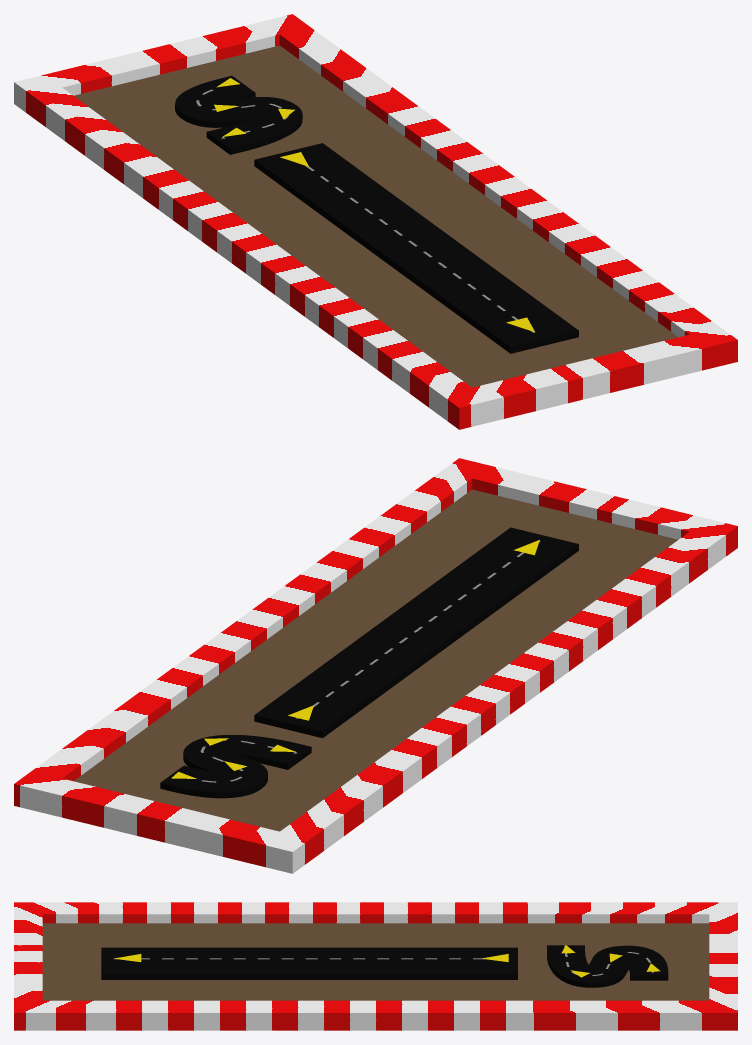
The model's file is alef_hamza_hi.FBX.
3 views of the same model, one above another, from view 1: azimuth 30°, elevation 25°; view 2: azimuth 150°, elevation 25°; view 3: azimuth 270°, elevation 25° (orthographic). The views are drawn at different scales.
Parts seen in each view (by area): view 1: alf_coll, alf_floor, alf; view 2: alf_coll, alf_floor, alf; view 3: alf_coll, alf_floor, alf, Line0.
Boxes of the visible parts, x1,y1,x2,y2 form: alf_coll: [14, 14, 737, 429]; alf_floor: [74, 45, 677, 387]; alf: [175, 75, 578, 353]; alf_coll: [14, 458, 737, 873]; alf_floor: [74, 489, 677, 831]; alf: [160, 527, 578, 798]; alf_coll: [14, 902, 737, 1030]; alf_floor: [42, 923, 709, 1000]; alf: [101, 945, 668, 987]; Line0: [114, 958, 508, 959].
Bounding box in the file's own units: 437 × 32.76 × 1210.
